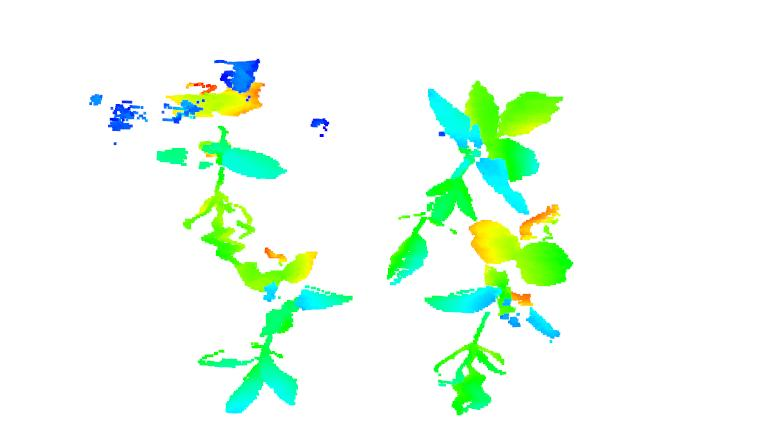mungbean: (383, 75, 569, 287), (425, 201, 579, 417), (197, 248, 363, 414), (163, 75, 285, 258)
